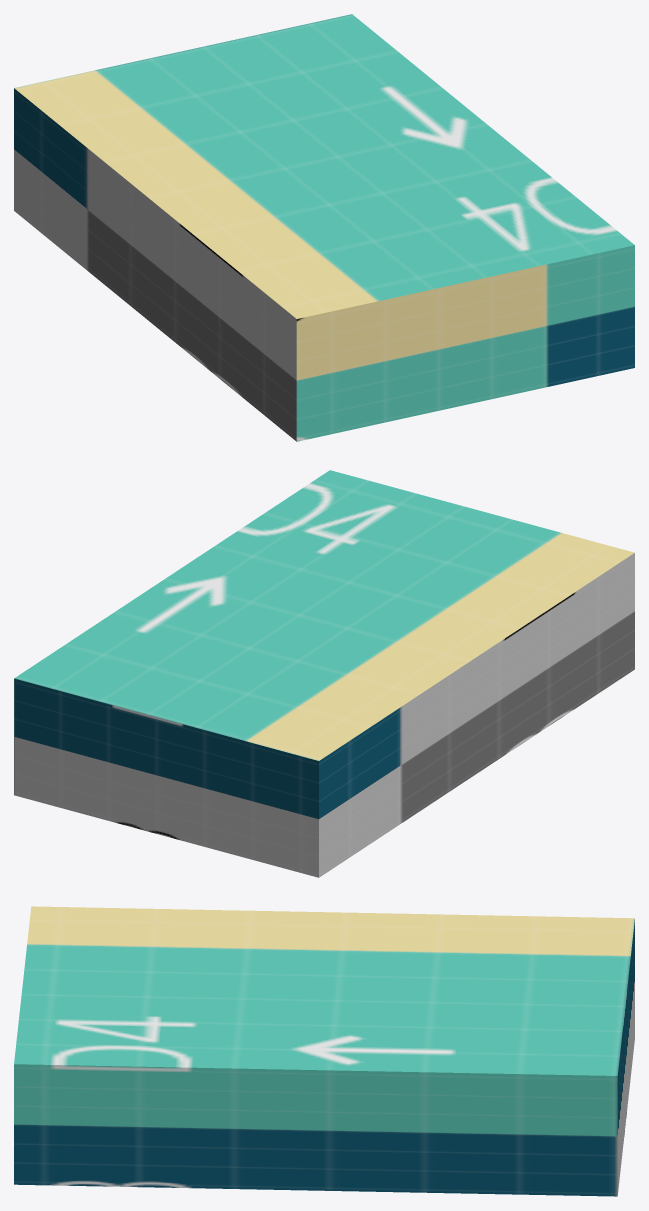
Rendered from notebook_open.glb.
3 renders of one model, top to bottom at view 1: azimuth 30°, elevation 25°; view 2: azimuth 150°, elevation 25°; view 3: azimuth 270°, elevation 25°, orthographic. The views are drawn at different scales.
Parts seen in each view (by area): view 1: col_notebook_open; view 2: col_notebook_open; view 3: col_notebook_open.
Part boxes in pixels (box(x1,y1,x2,y2)): col_notebook_open: box(14, 14, 634, 441); col_notebook_open: box(14, 470, 634, 877); col_notebook_open: box(14, 906, 634, 1196).
Size of the model in its own units: 0.2953 by 0.0978 by 0.4569.
Materials: 1 (1 with a texture image).
